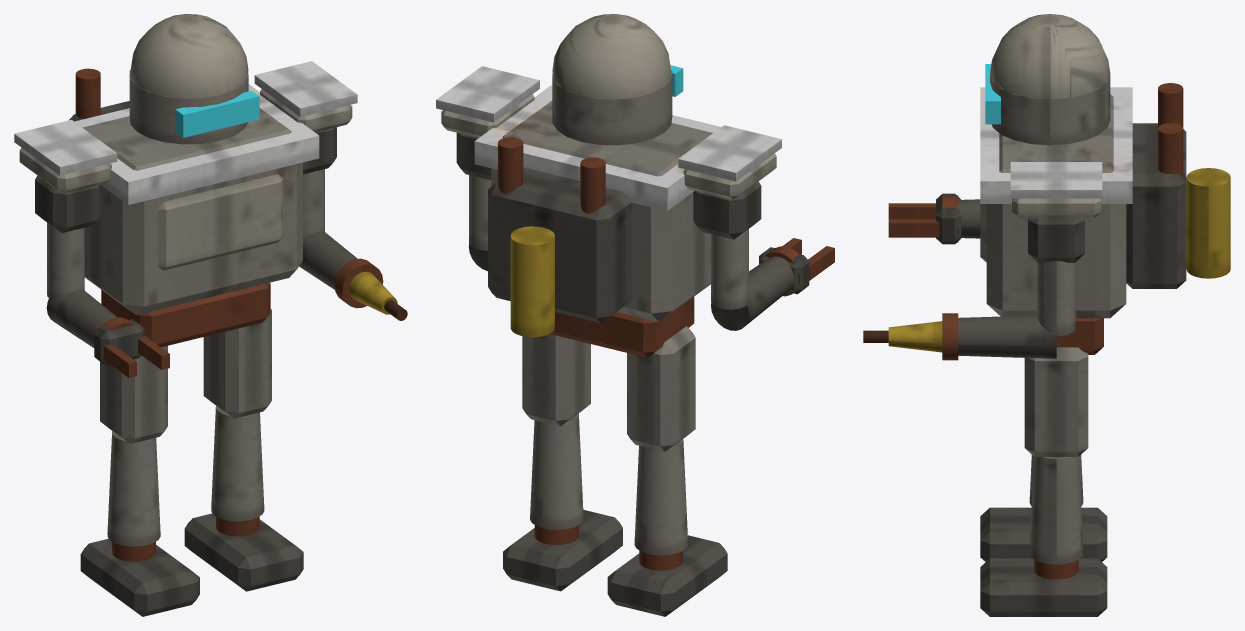
3 renders of one model, left to right at view 1: azimuth 30°, elevation 25°; view 2: azimuth 150°, elevation 25°; view 3: azimuth 270°, elevation 25°, orthographic.
Parts seen in each view (by area): view 1: dweller_robot_builder; view 2: dweller_robot_builder; view 3: dweller_robot_builder.
Part boxes in pixels (<box>): dweller_robot_builder: <box>14,14,407,616</box>; dweller_robot_builder: <box>436,14,834,616</box>; dweller_robot_builder: <box>863,14,1230,616</box>.
Bounding box in the file's own units: 1.09 × 1.95 × 1.16.
Materials: 8 (8 with a texture image).
